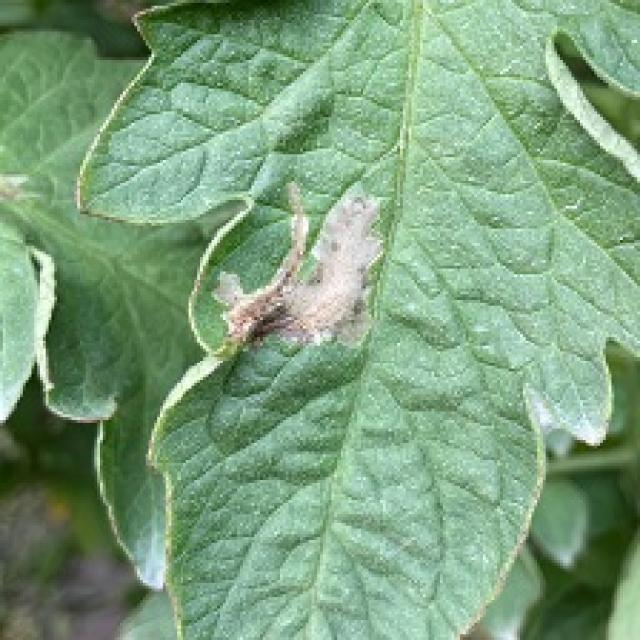Tuta absoluta: (216, 182, 381, 346)
